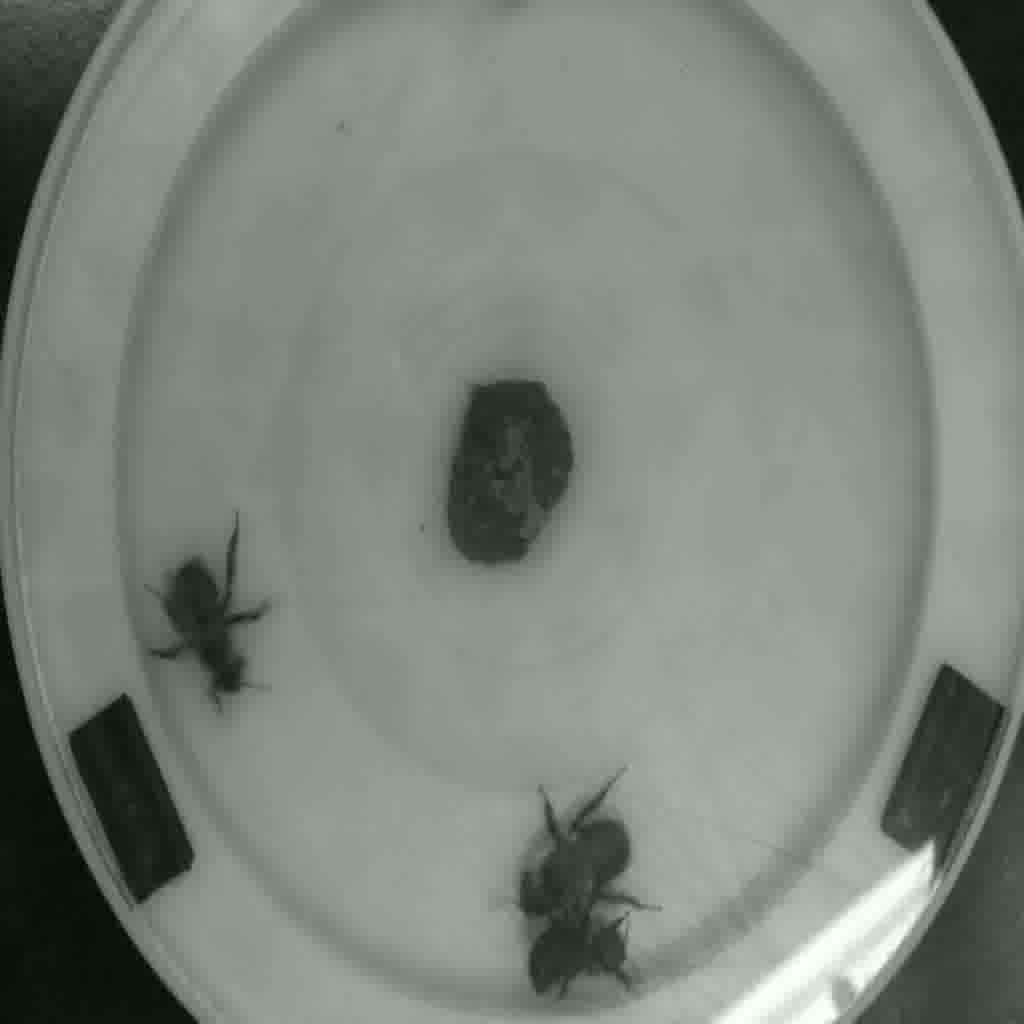bee: (150, 551, 256, 701), (494, 919, 651, 1011), (524, 798, 638, 904)
